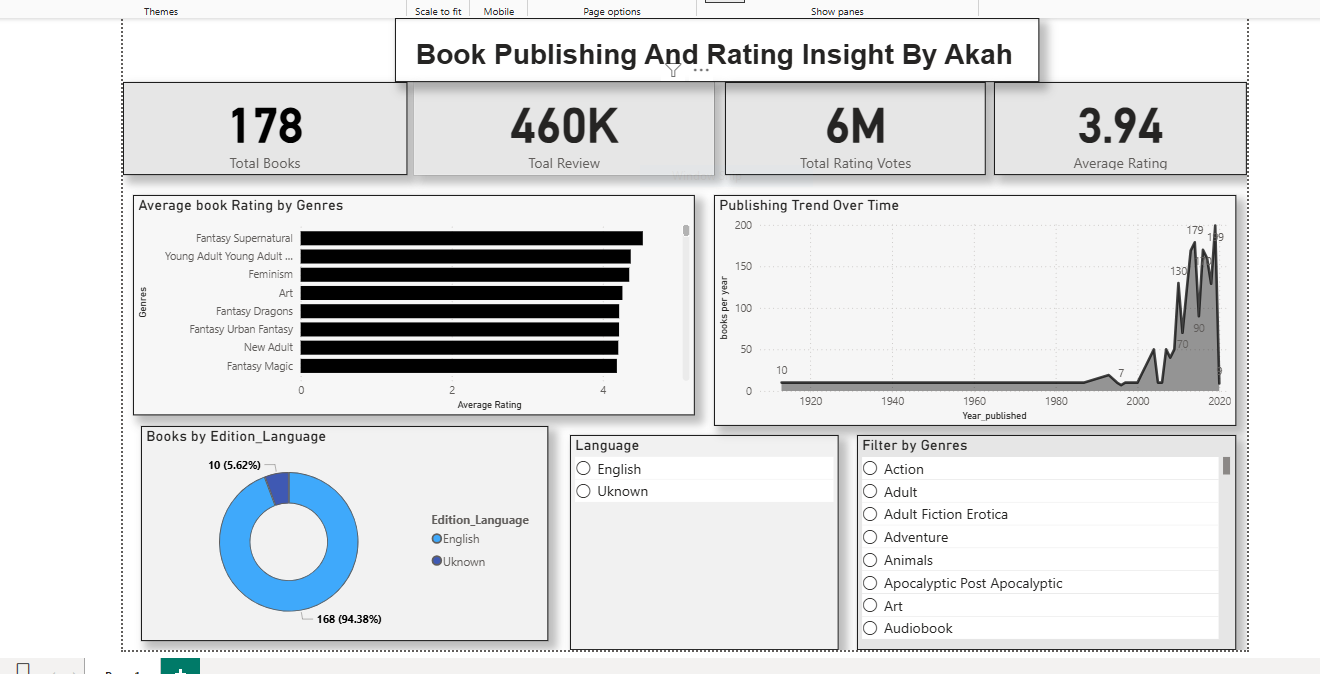

What the dashboard file says about the page in this screenshot:
{"tool":"powerbi","page":{"name":"Page 1","canvas":[1280,720],"ordinal":0},"visuals":[{"type":"card","fields":{"Values":["Open_Library_Cleaned_Project1.Total Books"]},"box":[0,72.9,323.5,105.9],"z":0},{"type":"card","fields":{"Values":["Open_Library_Cleaned_Project1.Toal Review"]},"box":[331.5,72.9,341.8,105.9],"z":1000},{"type":"card","fields":{"Values":["Open_Library_Cleaned_Project1.Total Rating Votes"]},"box":[685.8,72.9,297.3,105.9],"z":2000},{"type":"card","fields":{"Values":["Open_Library_Cleaned_Project1.Average Rating"]},"box":[992.3,72.9,288.2,105.9],"z":3000},{"type":"clusteredBarChart","title":"Average book Rating by Genres","fields":{"Category":["Open_Library_Cleaned_Project1.Genres.1"],"Y":["Open_Library_Cleaned_Project1.Average Rating"]},"box":[11.4,201.6,640.3,250.6],"z":4000},{"type":"lineChart","title":"Publishing Trend Over Time","fields":{"Y":["Open_Library_Cleaned_Project1.books per year"],"Category":["Open_Library_Cleaned_Project1.Year_published"]},"box":[673.3,201.6,594.7,263.2],"z":5000},{"type":"donutChart","title":" Books by Edition_Language","fields":{"Category":["Open_Library_Cleaned_Project1.Edition_Language"],"Y":["Open_Library_Cleaned_Project1.Total Books"]},"box":[20.5,464.8,463.7,244.9],"z":6000},{"type":"listSlicer","title":"Filter by Genres","fields":{"Values":["Open_Library_Cleaned_Project1.Genres.1"]},"box":[836.2,475.1,431.8,244.9],"z":7000},{"type":"listSlicer","title":"Language","fields":{"Values":["Open_Library_Cleaned_Project1.Edition_Language"]},"box":[509.2,475.1,306.5,244.9],"z":8000},{"type":"textbox","box":[309.9,0,733.7,72.9],"z":9000},{"type":"qnaVisual","box":[0,0,12.5,12.5],"z":10000}]}

Visuals, with their boxes in screenshot pixels (x1, y1, x2, y2):
card - Open_Library_Cleaned_Project1.Total Books: [left=110, top=75, right=398, bottom=169]
card - Open_Library_Cleaned_Project1.Toal Review: [left=405, top=75, right=709, bottom=169]
card - Open_Library_Cleaned_Project1.Total Rating Votes: [left=720, top=75, right=985, bottom=169]
card - Open_Library_Cleaned_Project1.Average Rating: [left=993, top=75, right=1250, bottom=169]
"Average book Rating by Genres" clusteredBarChart: [left=120, top=190, right=690, bottom=413]
"Publishing Trend Over Time" lineChart: [left=709, top=190, right=1239, bottom=424]
" Books by Edition_Language" donutChart: [left=128, top=424, right=541, bottom=642]
"Filter by Genres" listSlicer: [left=854, top=433, right=1239, bottom=651]
"Language" listSlicer: [left=563, top=433, right=836, bottom=651]
textbox: [left=386, top=10, right=1039, bottom=75]
qnaVisual: [left=110, top=10, right=121, bottom=21]
